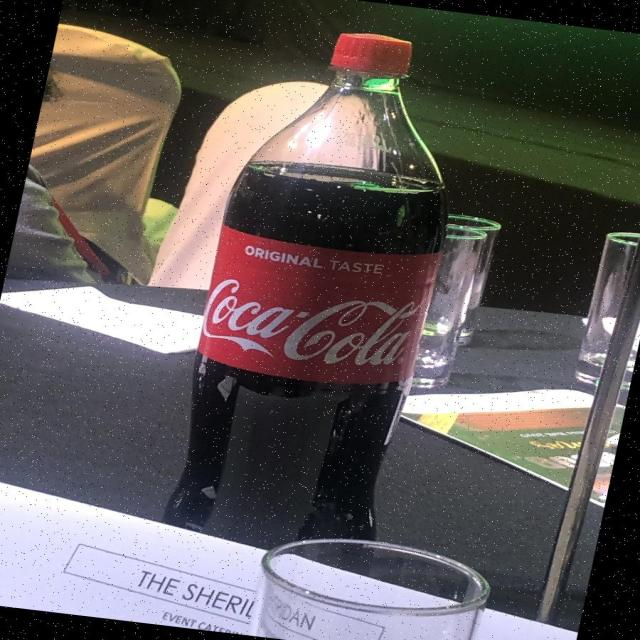coca-cola: (136, 17, 504, 579)
